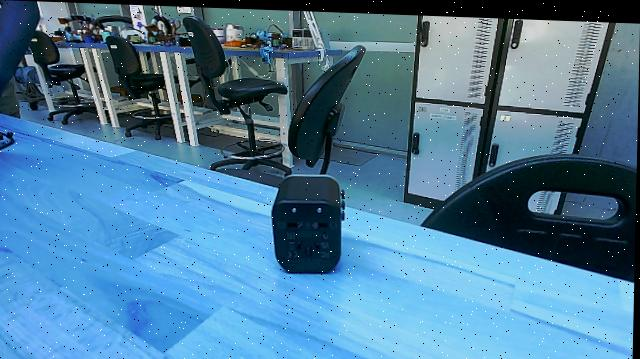adapter: (267, 164, 354, 278)
